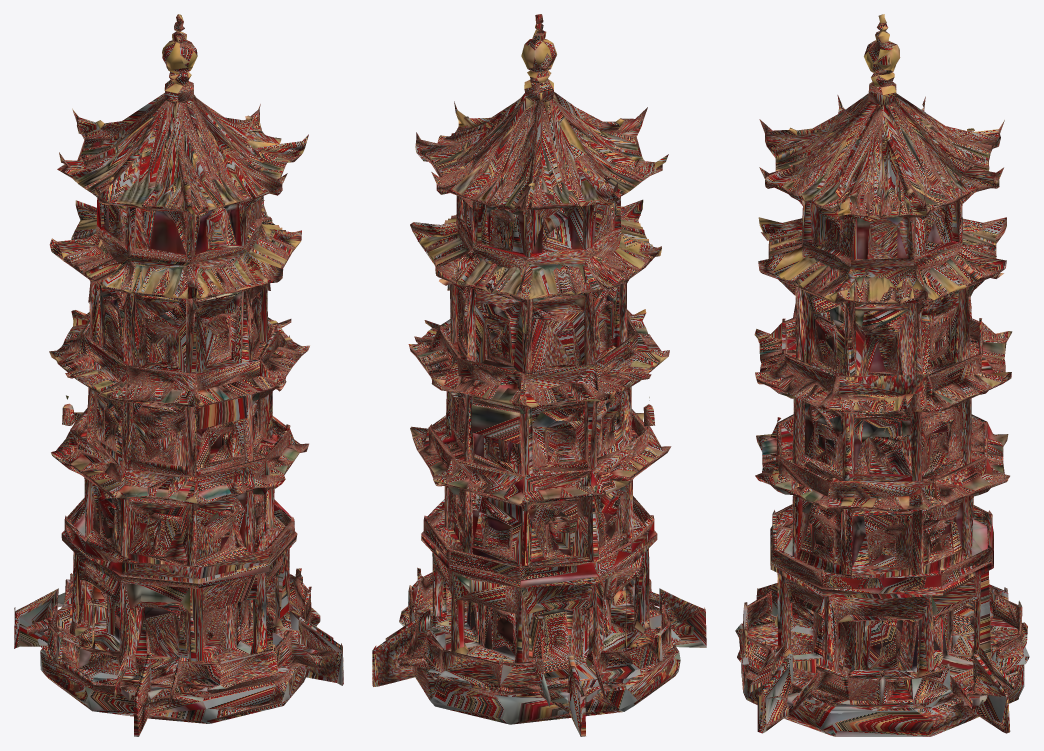
Rendered from tower_nine.lod.glb.
3 views of the same model, side by side, from view 1: azimuth 30°, elevation 25°; view 2: azimuth 150°, elevation 25°; view 3: azimuth 270°, elevation 25° (orthographic). The views are drawn at different scales.
Size of the model in its own units: 0.753 by 1.9 by 0.7616.
1 material, 1 textured.
